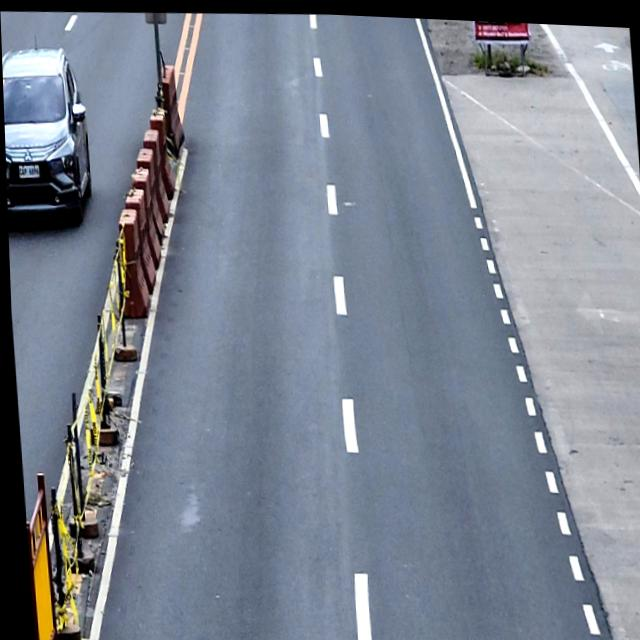Car: (1, 38, 92, 226)
License-Plate: (15, 161, 39, 180)
